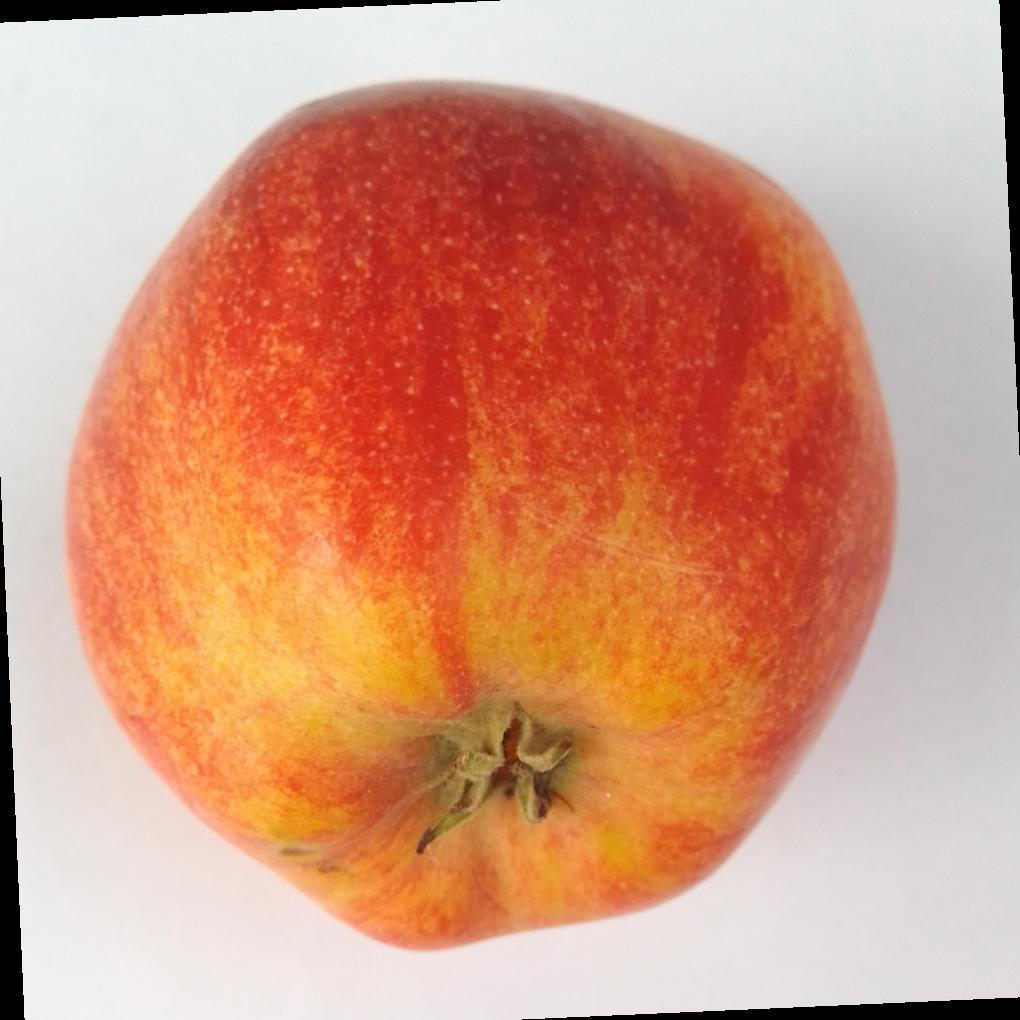FreshGuava: (61, 81, 900, 957)
